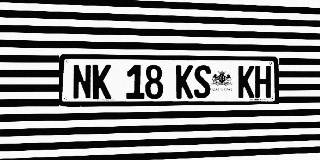1: (126, 65, 144, 99)
8: (145, 65, 163, 99)
H: (255, 66, 271, 98)
K: (92, 64, 111, 99), (176, 65, 193, 99), (238, 65, 254, 98)
N: (72, 64, 92, 100)
S: (194, 65, 211, 98)
